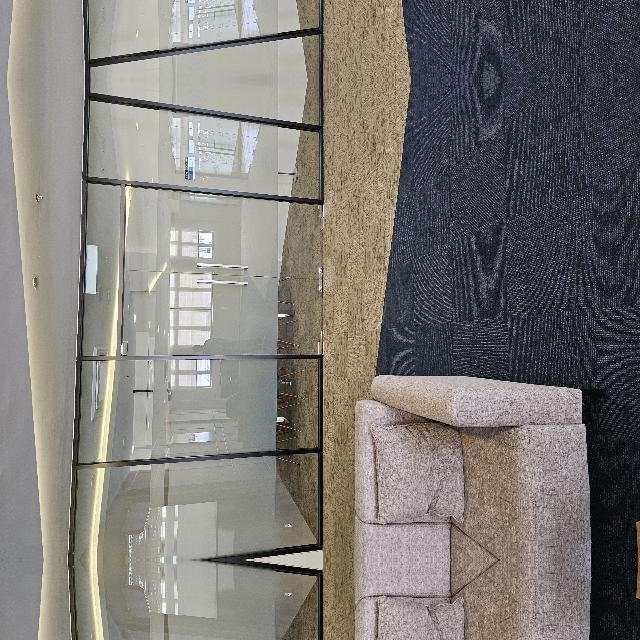door: (198, 195, 380, 405)
obstacle: (0, 430, 187, 640), (0, 452, 187, 640)
